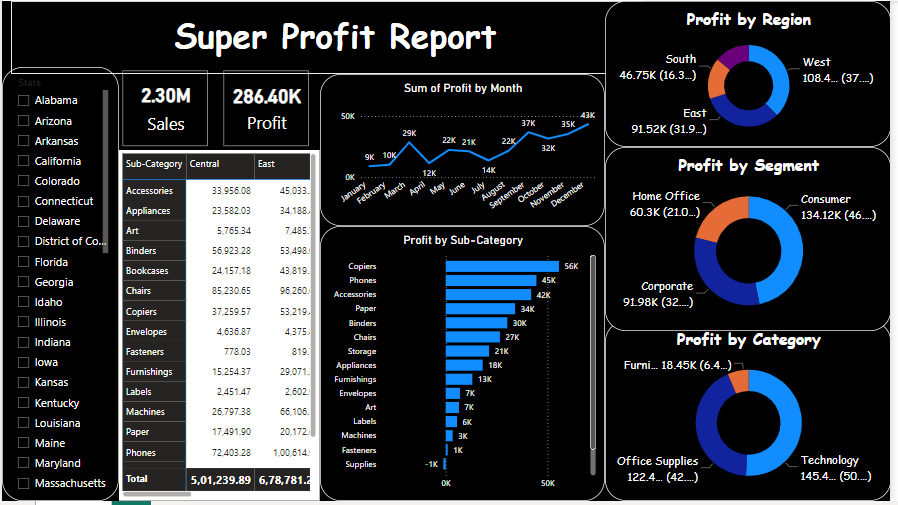

What the dashboard file says about the page in this screenshot:
{"tool":"powerbi","page":{"name":"Page 1","canvas":[1280,720],"ordinal":0},"visuals":[{"type":"textbox","box":[13,0,911.5,105.1],"z":0},{"type":"donutChart","title":"Profit by Category","fields":{"Y":["Sum(Orders.Profit)"],"Category":["Orders.Category"]},"box":[868.3,460.8,411.8,259.2],"z":1000},{"type":"donutChart","title":"Profit by Segment","fields":{"Y":["Sum(Orders.Profit)"],"Category":["Orders.Segment"]},"box":[868.3,210.2,411.8,265],"z":2000},{"type":"donutChart","title":"Profit by Region","fields":{"Y":["Sum(Orders.Profit)"],"Category":["Orders.Region"]},"box":[868.3,0,411.8,210.2],"z":3000},{"type":"barChart","title":"Profit by Sub-Category","fields":{"Category":["Orders.Sub-Category"],"Y":["Sum(Orders.Profit)"]},"box":[457.9,324,410.4,396],"z":4000},{"type":"lineChart","fields":{"Category":["Orders.Order Date.Variation.Date Hierarchy.Year","Orders.Order Date.Variation.Date Hierarchy.Quarter","Orders.Order Date.Variation.Date Hierarchy.Month","Orders.Order Date.Variation.Date Hierarchy.Day"],"Y":["Sum(Orders.Profit)"]},"box":[457.9,105.1,410.4,218.9],"z":5000},{"type":"slicer","fields":{"Values":["Orders.State"]},"box":[0,95,168.5,625],"z":5001},{"type":"pivotTable","fields":{"Rows":["Orders.Sub-Category"],"Columns":["Orders.Region"],"Values":["Sum(Orders.Sales)"]},"box":[168.5,214.6,289.4,505.4],"z":5002},{"type":"cardVisual","fields":{"Data":["Sum(Orders.Sales)"]},"box":[168.5,95,133.9,119.5],"z":5003},{"type":"cardVisual","fields":{"Data":["Sum(Orders.Profit)"]},"box":[313.9,95,133.9,119.5],"z":5004}]}

Visuals, with their boxes in screenshot pixels (x1, y1, x2, y2), scaled from the page's 1280x720 canvas onto the 898x505 screenshot:
textbox: detection(9, 0, 649, 74)
"Profit by Category" donutChart: detection(609, 323, 897, 504)
"Profit by Segment" donutChart: detection(609, 147, 897, 333)
"Profit by Region" donutChart: detection(609, 0, 897, 147)
"Profit by Sub-Category" barChart: detection(321, 227, 609, 504)
lineChart - Orders.Order Date.Variation.Date Hierarchy.Year x Orders.Order Date.Variation.Date Hierarchy.Quarter: detection(321, 74, 609, 227)
slicer - Orders.State: detection(0, 67, 118, 504)
pivotTable - Orders.Sub-Category x Orders.Region: detection(118, 151, 321, 504)
cardVisual - Sum(Orders.Sales): detection(118, 67, 212, 150)
cardVisual - Sum(Orders.Profit): detection(220, 67, 314, 150)
